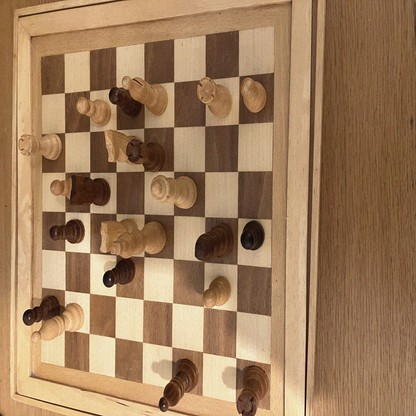bishop_white: (31, 302, 83, 340), (122, 77, 169, 115)
king_white: (110, 222, 168, 257)
knight_black: (158, 359, 198, 410), (69, 179, 110, 209)
knight_white: (100, 219, 137, 252), (106, 130, 139, 165)
pawn_black: (22, 295, 58, 323), (108, 90, 141, 118), (104, 260, 136, 285), (52, 220, 84, 243), (242, 221, 264, 249)
pawn_white: (76, 98, 110, 124), (203, 279, 232, 309), (240, 79, 266, 112), (51, 175, 73, 200)
queen_white: (151, 176, 197, 210)
rock_black: (237, 365, 269, 416), (127, 141, 165, 172)
rock_white: (197, 77, 232, 120), (19, 135, 61, 159)
